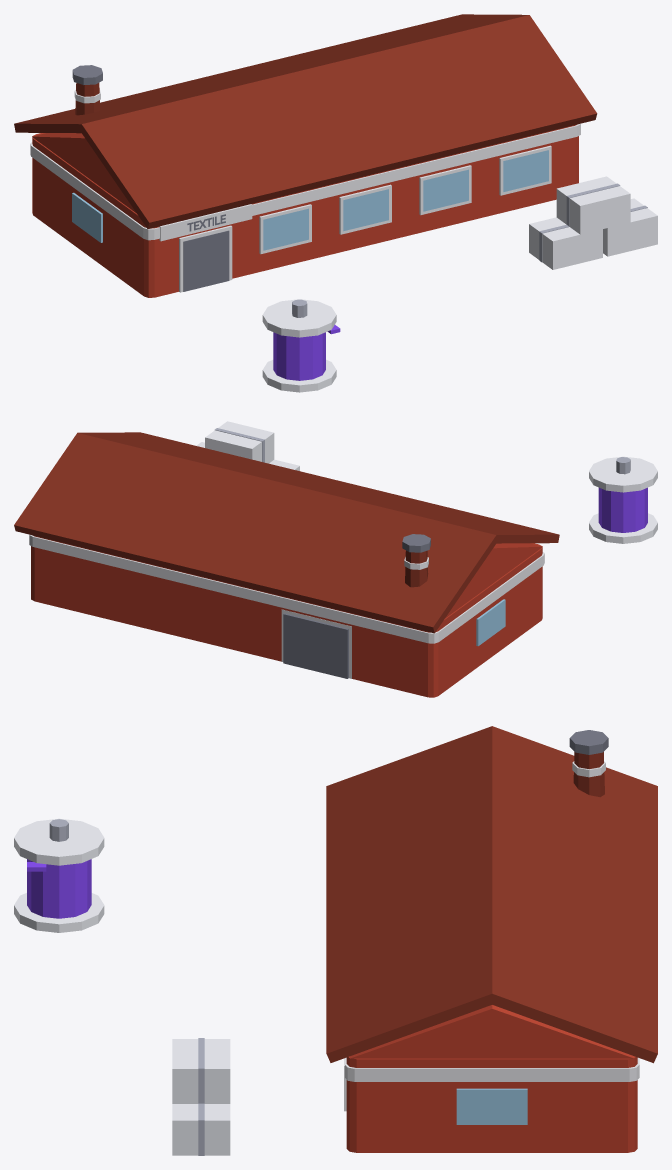
The model's file is textile-mill-2x2-t1-tone-a.glb.
3 views of the same model, one above another, from view 1: azimuth 30°, elevation 25°; view 2: azimuth 150°, elevation 25°; view 3: azimuth 270°, elevation 25° (orthographic). The views are drawn at different scales.
Parts seen in each view (by area): view 1: textile-mill-2x2-t1-tone-a; view 2: textile-mill-2x2-t1-tone-a; view 3: textile-mill-2x2-t1-tone-a.
Boxes of the visible parts, x1,y1,x2,y2 form: textile-mill-2x2-t1-tone-a: (14, 14, 657, 392); textile-mill-2x2-t1-tone-a: (14, 421, 657, 697); textile-mill-2x2-t1-tone-a: (14, 726, 657, 1155).
Bounding box in the file's own units: 1.96 × 0.61 × 1.99.
Materials: 1 (1 with a texture image).
